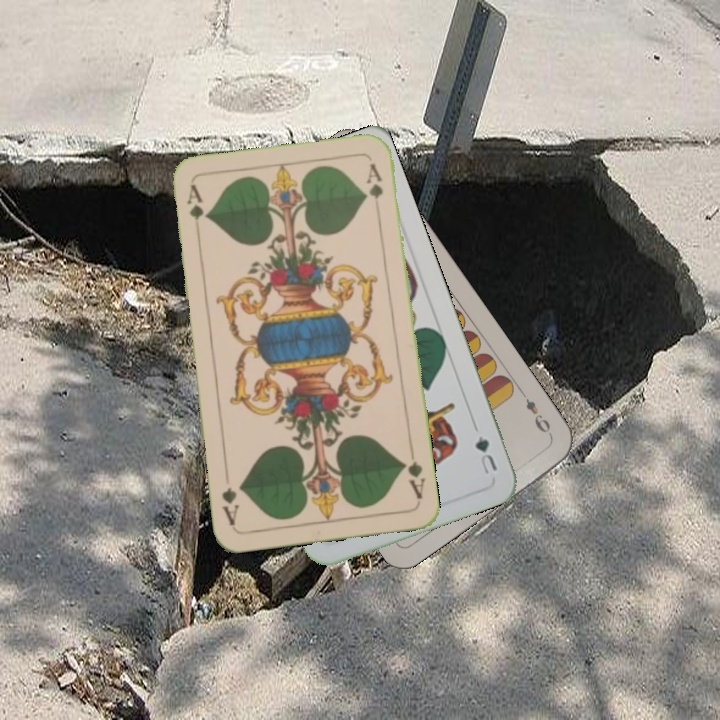E9: (517, 387, 555, 439)
GA: (398, 445, 428, 502), (182, 180, 206, 239)
GU: (471, 431, 500, 477)
